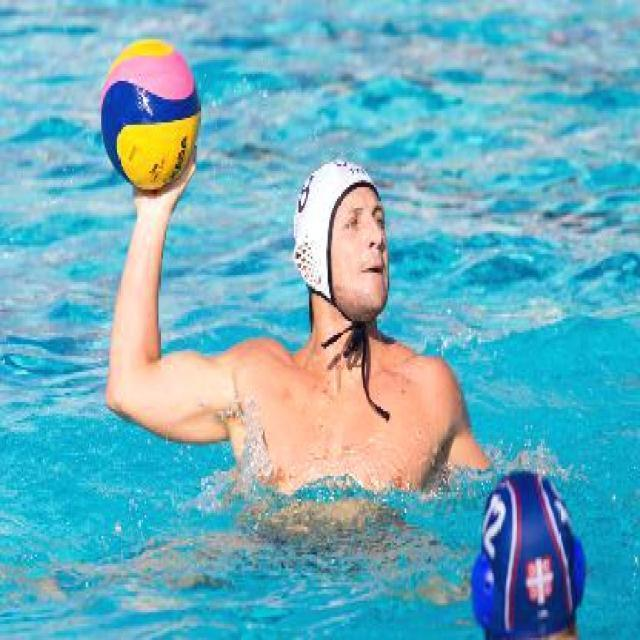volleyball: (100, 39, 202, 191)
